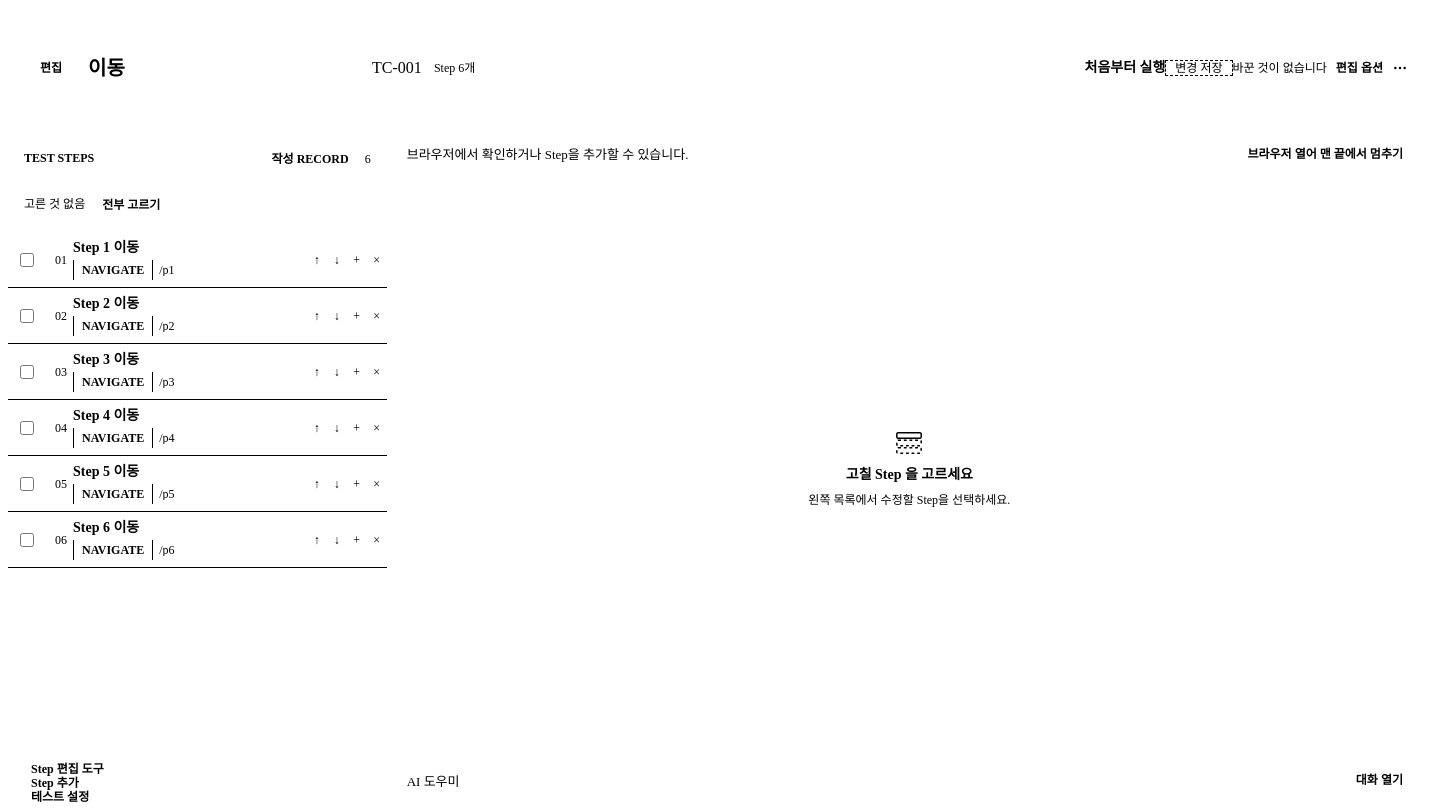
Test: 행의 「이 앞에 추가」 (FR-298) › 그 행을 고른 상태로 입력면이 열린다
Check: the button "Step 1 이동" is shown, box [73, 239, 289, 257]
Click the button "+" in the row of "/p3". click: (357, 372)
box: [347, 362, 367, 382]
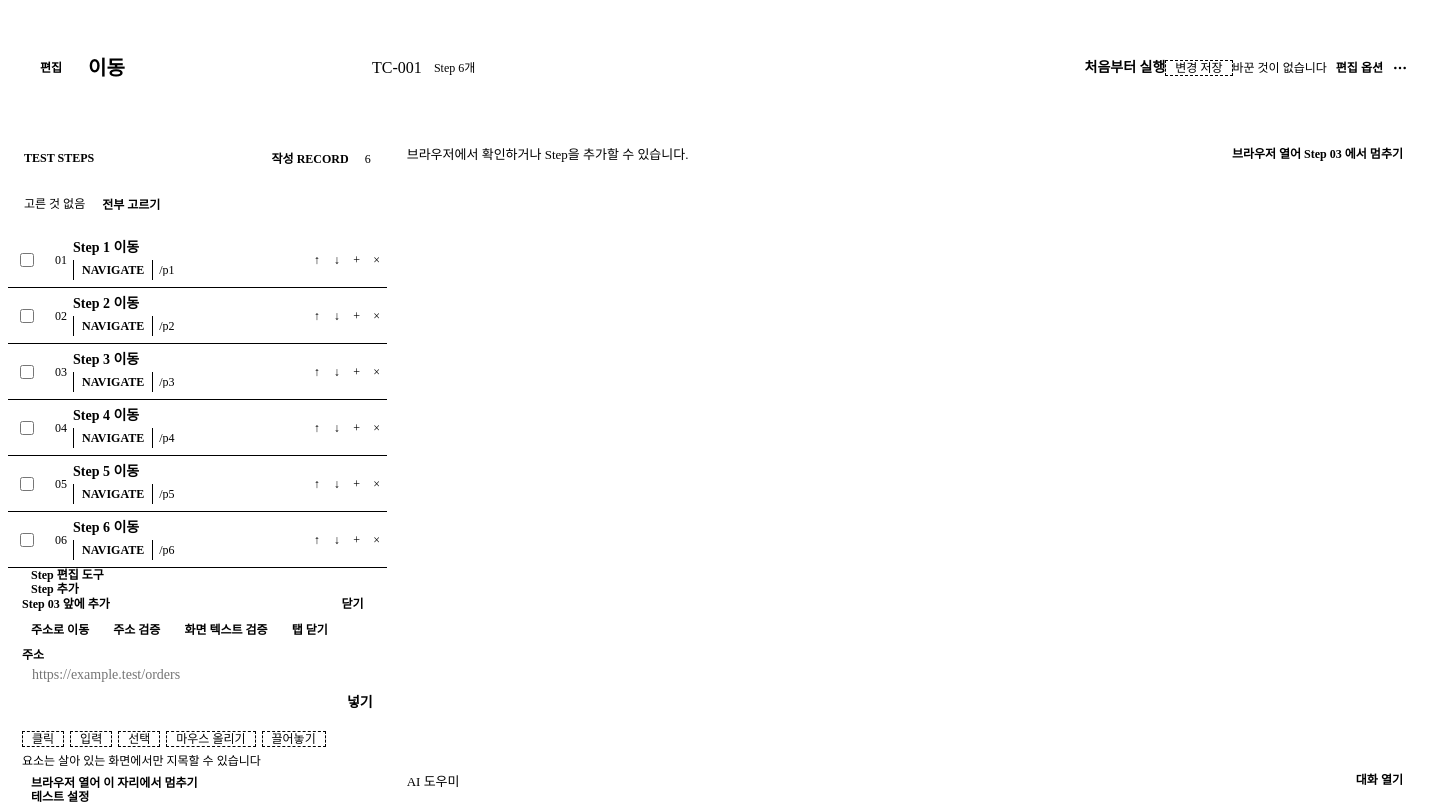
Check: the element named "넣을 Step 종류" is shown, box [22, 623, 373, 637]
Check: the text "Step 03 앞에 추가" is shown, box [22, 596, 110, 613]
